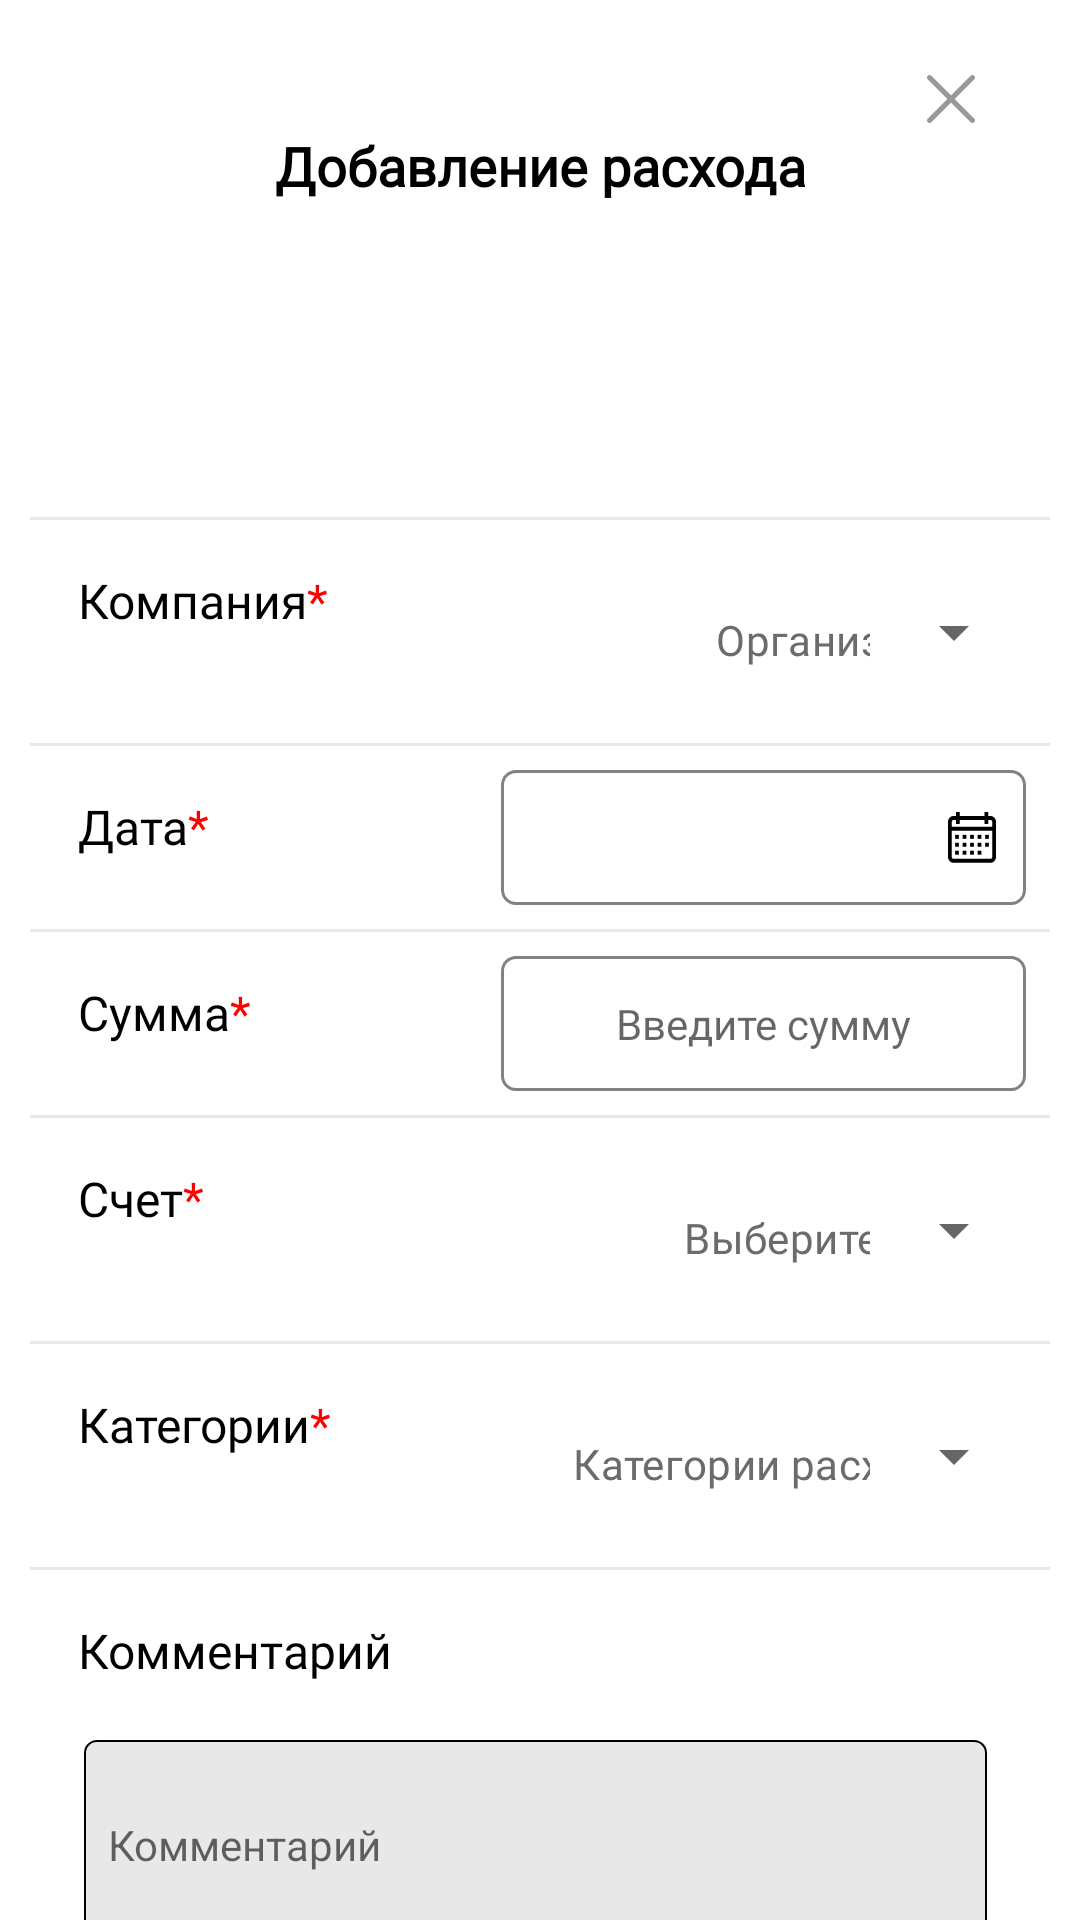

Where to tap for icons on this 1080 x 1920 app screen, as (x,y):
close: (951,99)
